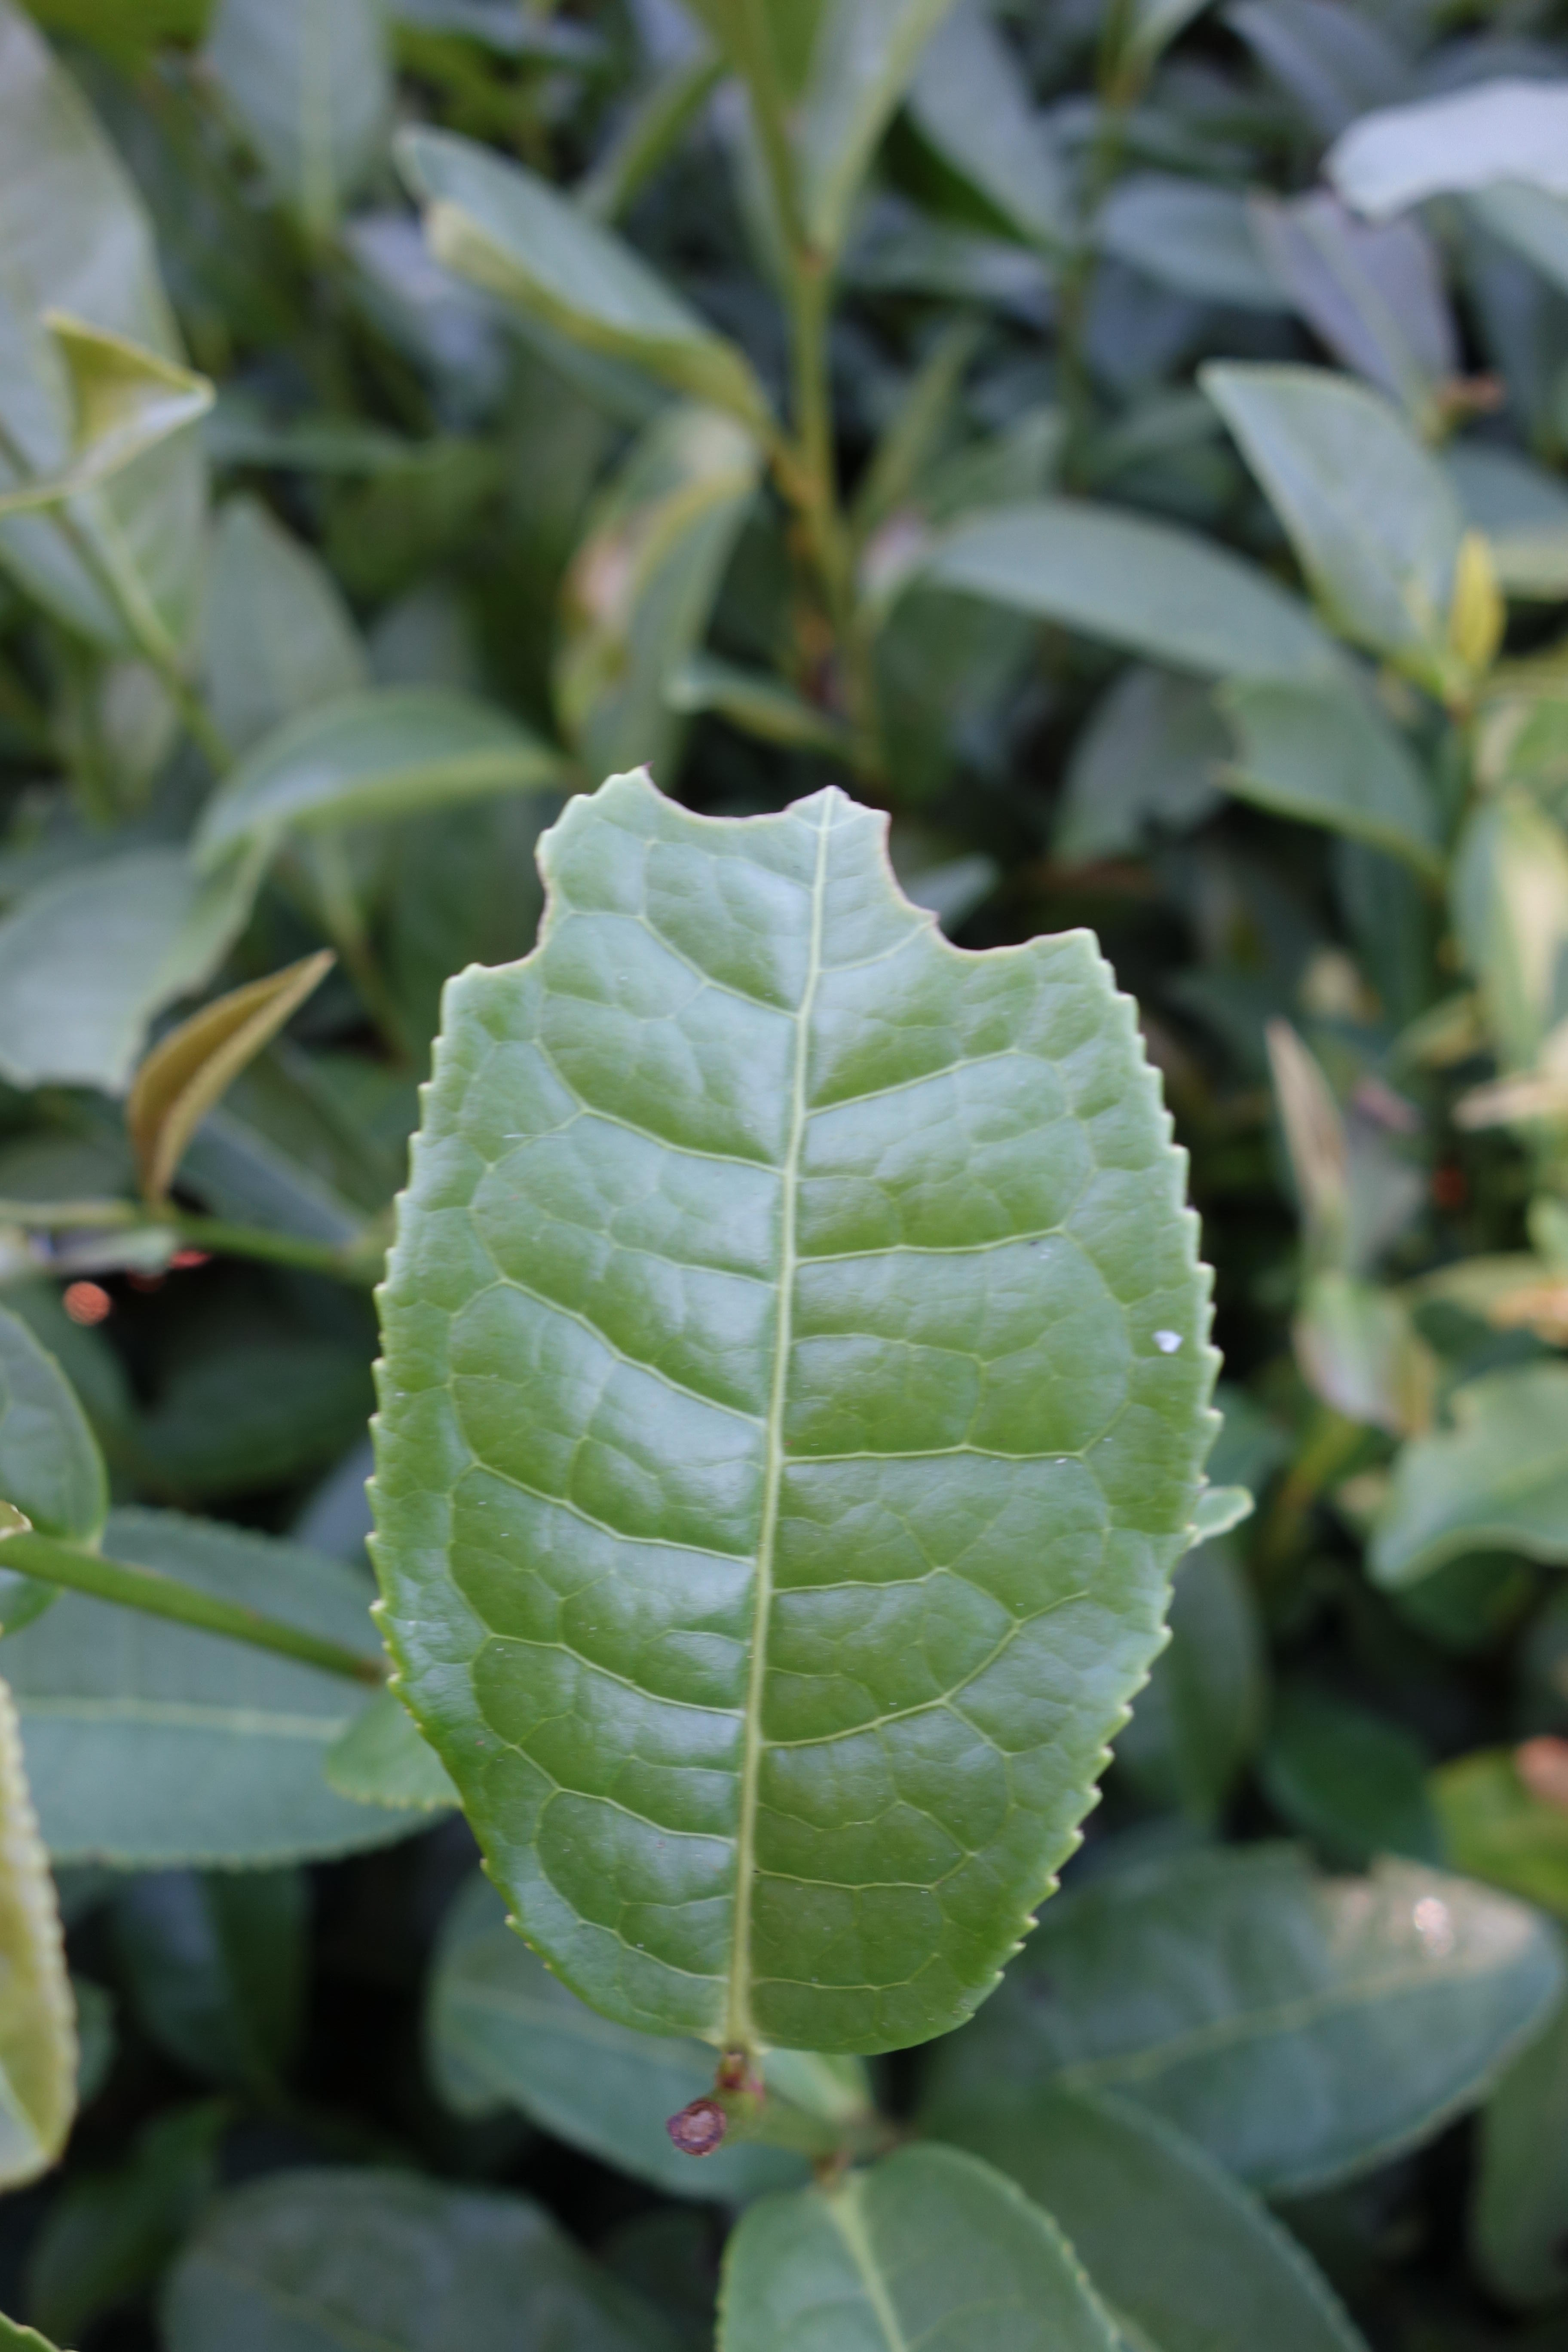chihuo_high: (364, 763, 1223, 2063)
